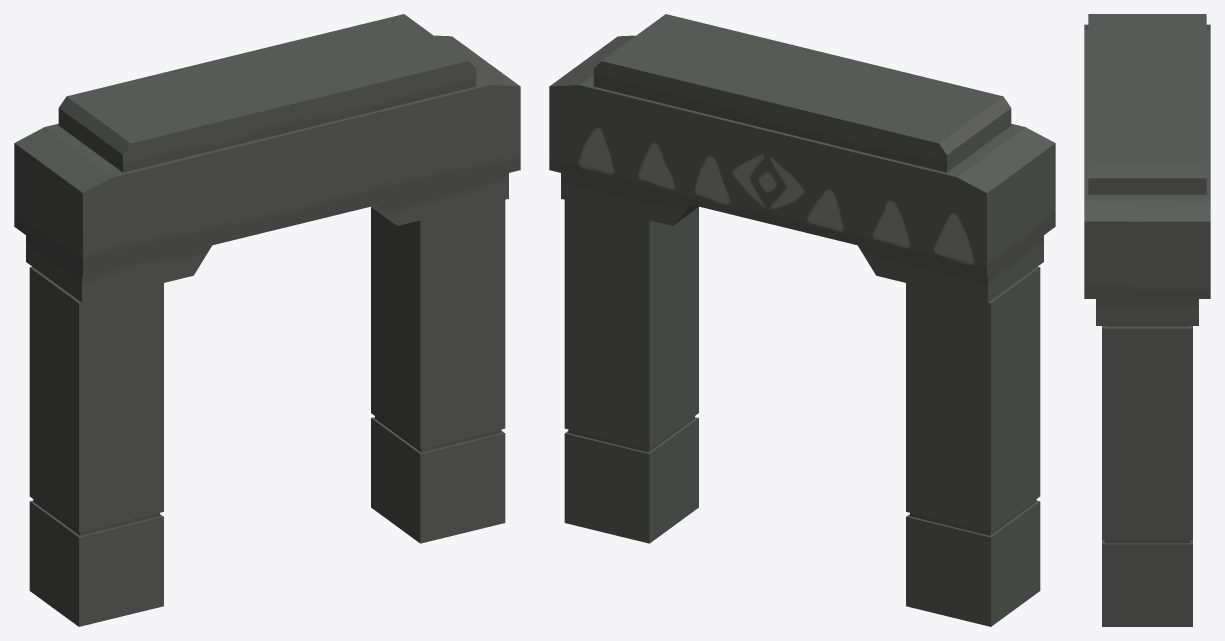
The model's file is SkyGateModel.fbx.
3 renders of one model, left to right at view 1: azimuth 30°, elevation 25°; view 2: azimuth 150°, elevation 25°; view 3: azimuth 270°, elevation 25°, orthographic. The views are drawn at different scales.
Parts seen in each view (by area): view 1: Cube.001; view 2: Cube.001; view 3: Cube.001.
Boxes of the visible parts, left/top/right/bottom form: Cube.001: left=14, top=14, right=520, bottom=626; Cube.001: left=549, top=14, right=1055, bottom=626; Cube.001: left=1084, top=14, right=1210, bottom=626.
Size of the model in its own units: 1024 by 1069 by 278.
